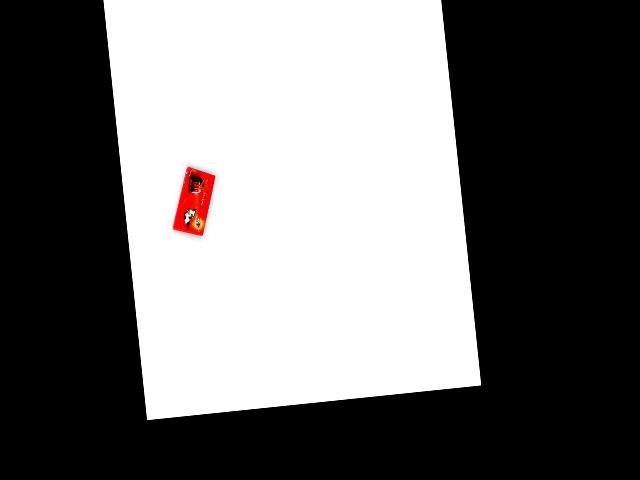chocolate: (166, 163, 222, 237)
